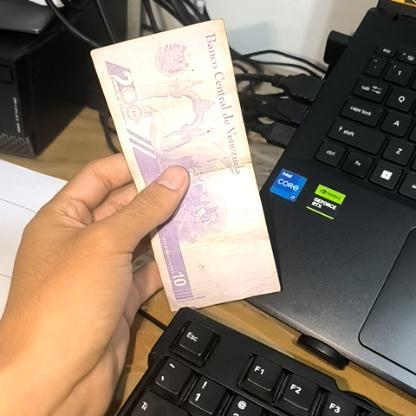ten-back-vef: (92, 23, 282, 310)
